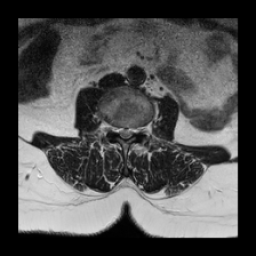CCS_severe_stenosis: (123, 120, 128, 146)
LFS_normal: (134, 119, 141, 139)
LLS_normal: (128, 120, 134, 143)
RFS_stenosis: (111, 118, 117, 138)
RLS_normal: (117, 121, 123, 142)
